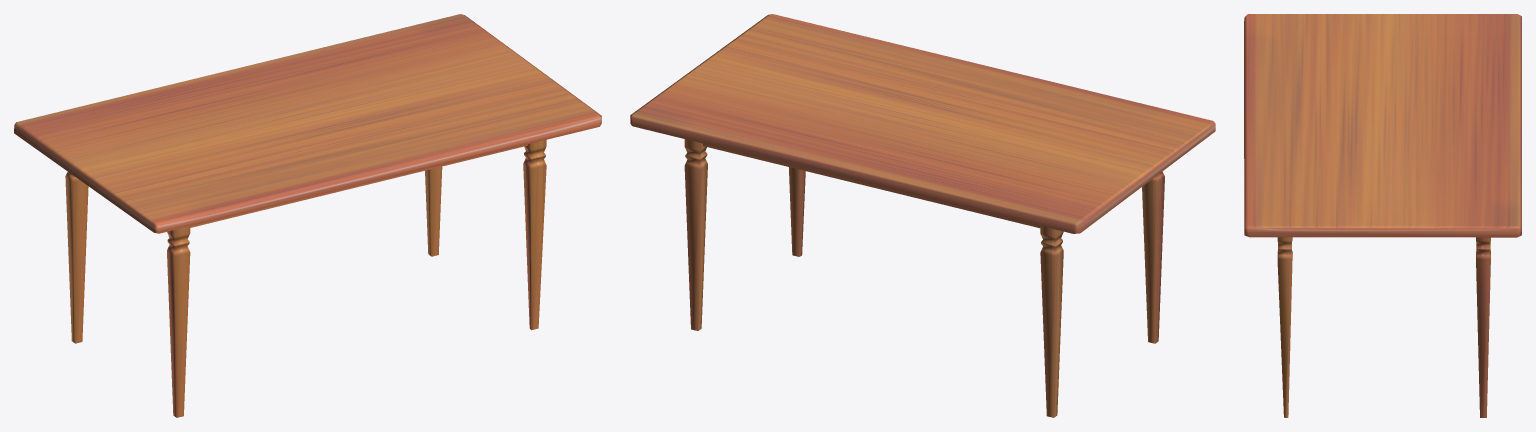
Rendered from Table_texture.fbx.
3 renders of one model, left to right at view 1: azimuth 30°, elevation 25°; view 2: azimuth 150°, elevation 25°; view 3: azimuth 270°, elevation 25°, orthographic. The views are drawn at different scales.
Visible parts, largest first — view 1: Table_texture_low; view 2: Table_texture_low; view 3: Table_texture_low.
Part boxes in pixels (box(x1,y1,x2,y2)): Table_texture_low: box(14, 14, 601, 417); Table_texture_low: box(630, 14, 1215, 417); Table_texture_low: box(1244, 14, 1521, 417).
Bounding box in the file's own units: 18.08 × 8.32 × 9.87.
